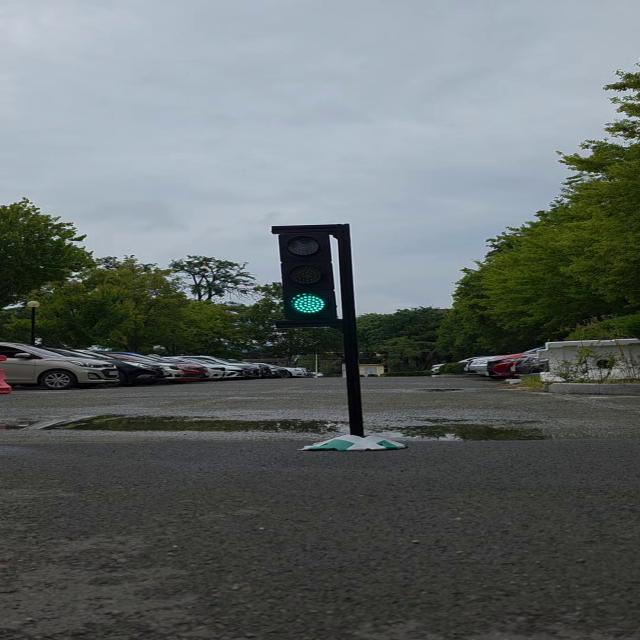green: (277, 228, 353, 326)
